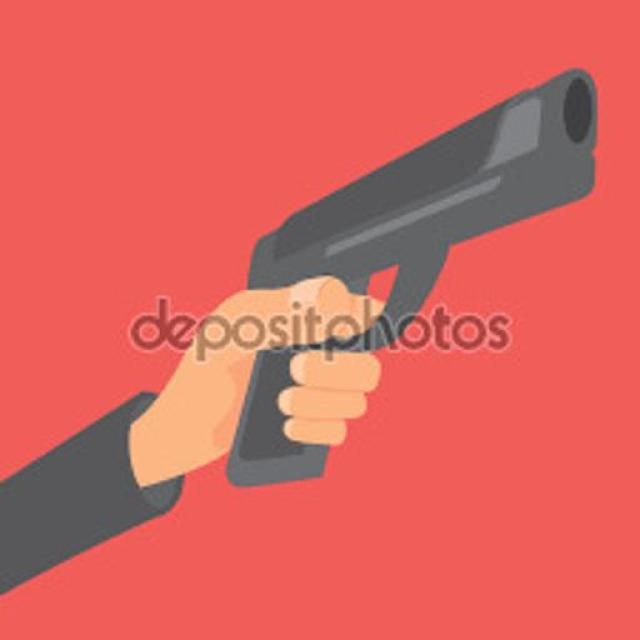pistol: (219, 67, 605, 486)
